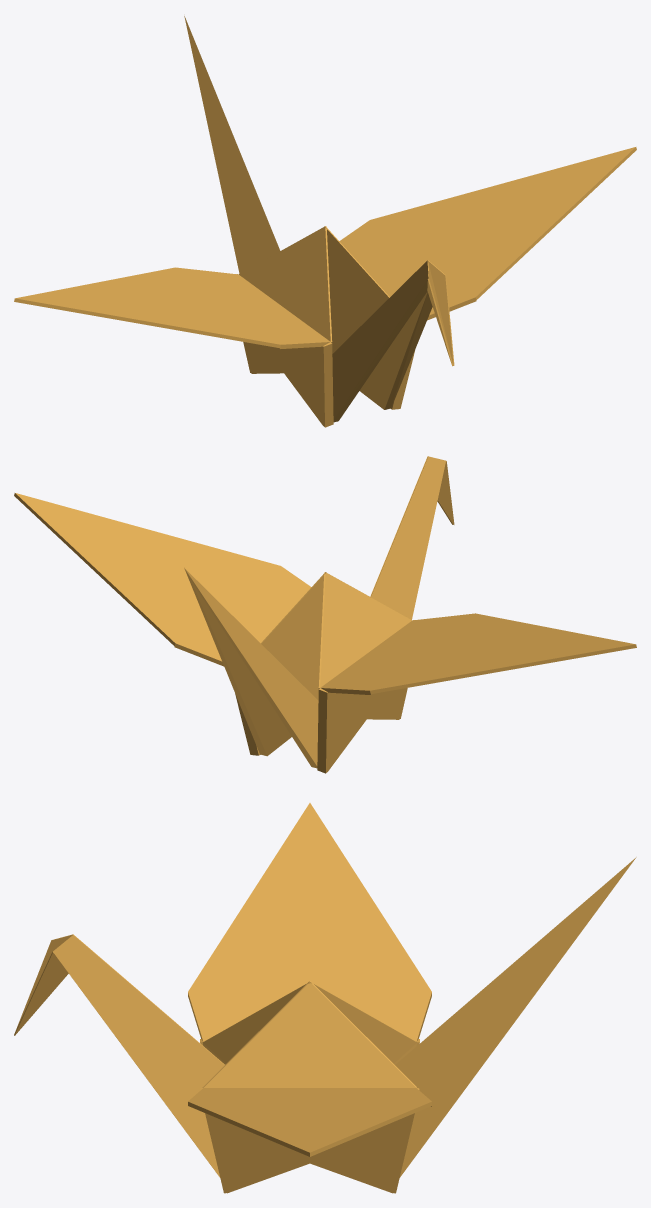
Rendered from oritsuru_animation.glb.
The picture shows the model from 3 angles, top to bottom: view 1: azimuth 30°, elevation 25°; view 2: azimuth 150°, elevation 25°; view 3: azimuth 270°, elevation 25°; orthographic projection. The views are drawn at different scales.
Parts seen in each view (by area): view 1: oritsuru; view 2: oritsuru; view 3: oritsuru.
Part boxes in pixels (x1,y1,x2,y2): oritsuru: (14,16,636,427); oritsuru: (14,456,636,773); oritsuru: (14,803,636,1193).
Bounding box in the file's own units: 2.11 × 0.884 × 1.58.
